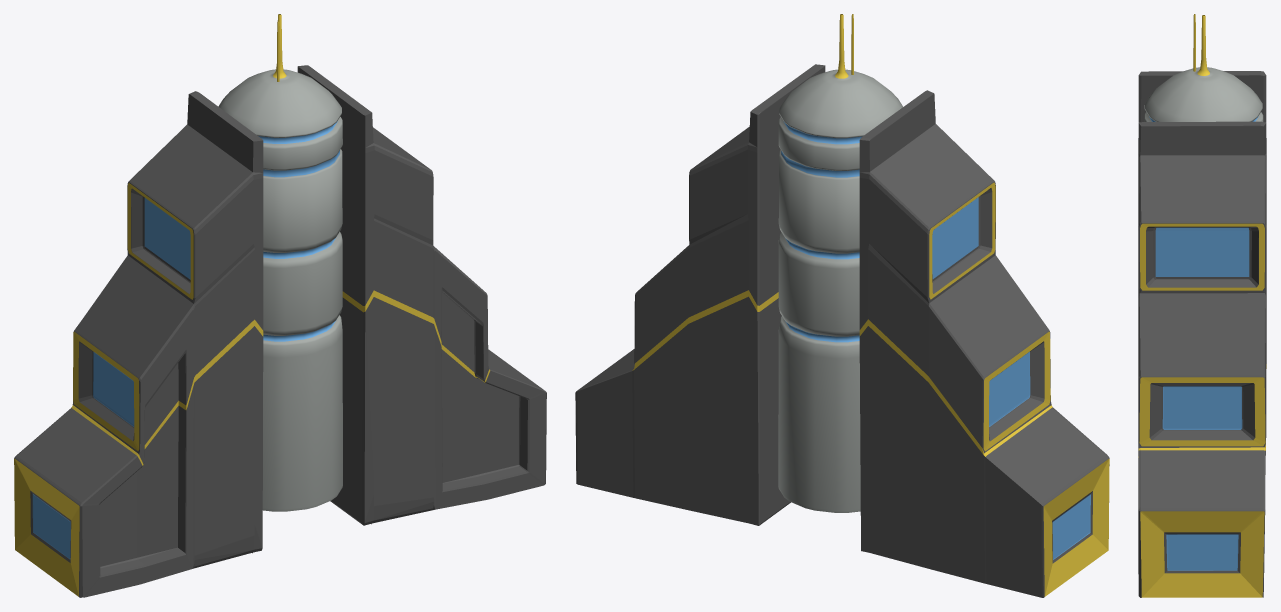
The model's file is PredioFuturistaUvAberto.fbx.
3 views of the same model, side by side, from view 1: azimuth 30°, elevation 25°; view 2: azimuth 150°, elevation 25°; view 3: azimuth 270°, elevation 25° (orthographic). The views are drawn at different scales.
Parts seen in each view (by area): view 1: Cylinder.003, Cylinder.002; view 2: Cylinder.003, Cylinder.002; view 3: Cylinder.003, Cylinder.002.
Part boxes in pixels (x1,y1,x2,y2): Cylinder.003: (14,65,546,597); Cylinder.002: (218,14,342,511); Cylinder.003: (575,64,1109,597); Cylinder.002: (778,14,902,512); Cylinder.003: (1138,71,1266,597); Cylinder.002: (1144,14,1263,121).
Size of the model in its own units: 9843 by 10112 by 2468.
